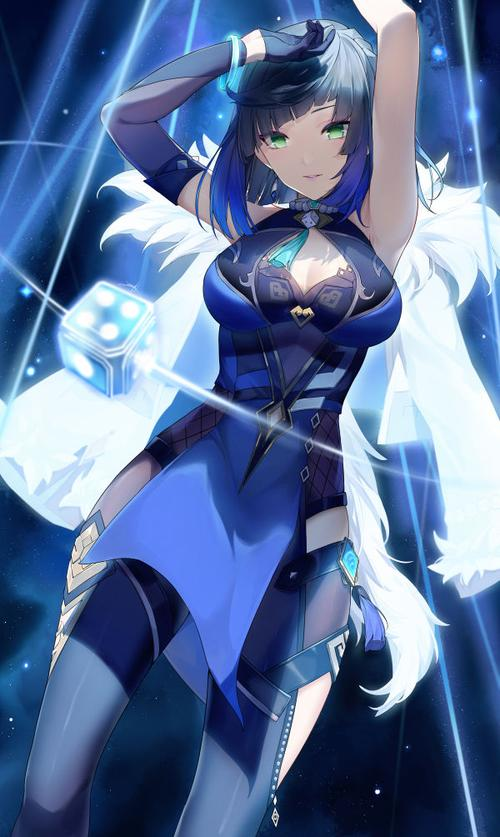夜兰: (20, 1, 422, 837)
